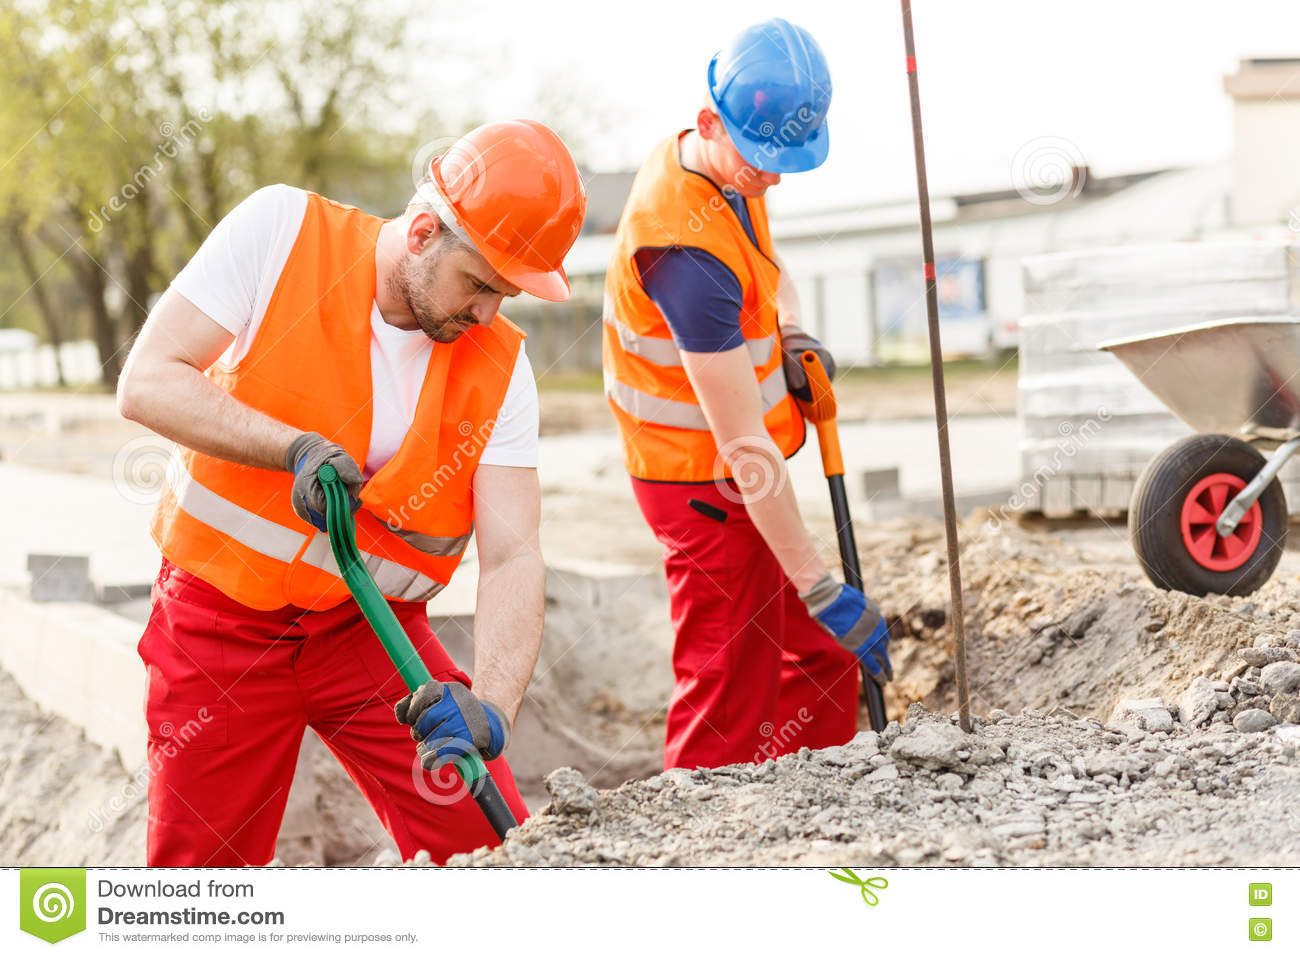SAFE: (135, 117, 585, 603), (594, 4, 830, 475)
